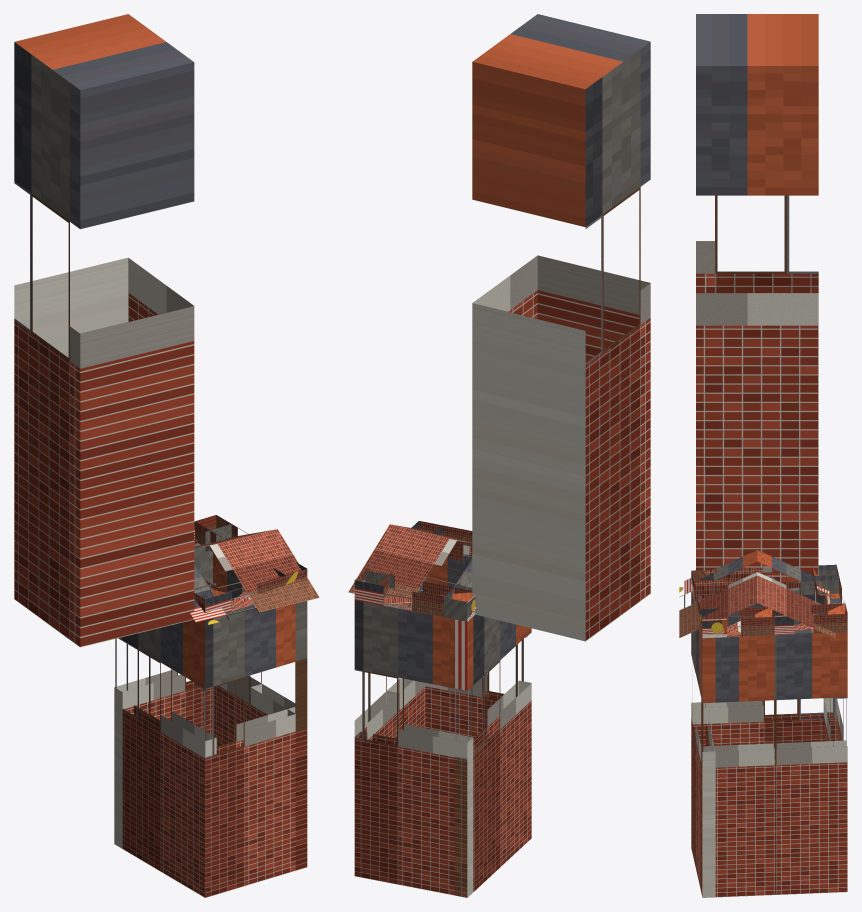
The picture shows the model from 3 angles, left to right: view 1: azimuth 30°, elevation 25°; view 2: azimuth 150°, elevation 25°; view 3: azimuth 270°, elevation 25°; orthographic projection. The views are drawn at different scales.
Visible parts, largest first — view 1: 238575821__chimney_0_xb, 238575821__wall_0_xb, 238575821__wall_4_xb, 238575821_roof_-1_xb, 238575821__wall_3_xb, 238575821__wall_1_xb, 238575821__wall_2_xb, 238575821__cornice_0, 238575821__cornice_2; view 2: 238575821__chimney_0_xb, 238575821__wall_3_xb, 238575821__wall_4_xb, 238575821_roof_1_xb, 238575821__wall_0_xb, 238575821__cornice_3, 238575821__wall_2_xb, 238575821__wall_1_xb, 238575821__cornice_0, 238575821__cornice_4; view 3: 238575821__chimney_0_xb, 238575821__wall_2_xb, 238575821__wall_1_xb, 238575821__wall_4_xb, 238575821__wall_0_xb, 238575821_roof_-1_xb, 238575821_roof_1_xb, 238575821__cornice_4, 238575821__cornice_1, 238575821__cornice_2, 238575821__wall_3_xb, 238575821__cornice_0.
Part boxes in pixels (x1,y1,x2,y2): 238575821__chimney_0_xb: (14,14,194,647); 238575821__wall_0_xb: (197,599,295,897); 238575821__wall_4_xb: (115,619,216,897); 238575821_roof_-1_xb: (190,529,319,624); 238575821__wall_3_xb: (114,543,212,848); 238575821__wall_1_xb: (250,601,307,870); 238575821__wall_2_xb: (213,552,261,746); 238575821__cornice_0: (194,569,307,612); 238575821__cornice_2: (195,515,249,551); 238575821__chimney_0_xb: (472,14,650,641); 238575821__wall_3_xb: (354,600,473,897); 238575821__wall_4_xb: (454,614,531,897); 238575821_roof_1_xb: (348,524,476,616); 238575821__wall_0_xb: (425,556,531,738); 238575821__cornice_3: (354,570,475,621); 238575821__wall_2_xb: (354,676,399,875); 238575821__wall_1_xb: (387,579,425,729); 238575821__cornice_0: (419,521,472,560); 238575821__cornice_4: (443,583,475,621); 238575821__chimney_0_xb: (696,14,818,582); 238575821__wall_2_xb: (774,628,847,894); 238575821__wall_1_xb: (701,634,774,897); 238575821__wall_4_xb: (691,587,837,746); 238575821__wall_0_xb: (691,591,715,897); 238575821_roof_-1_xb: (679,550,757,637); 238575821_roof_1_xb: (757,550,835,637); 238575821__cornice_4: (694,564,838,599); 238575821__cornice_1: (700,606,774,637); 238575821__cornice_2: (773,603,847,635); 238575821__wall_3_xb: (823,593,847,746); 238575821__cornice_0: (691,570,726,638).
Size of the model in its own units: 0.303 by 1.05 by 0.2058.
1 material, 1 textured.
